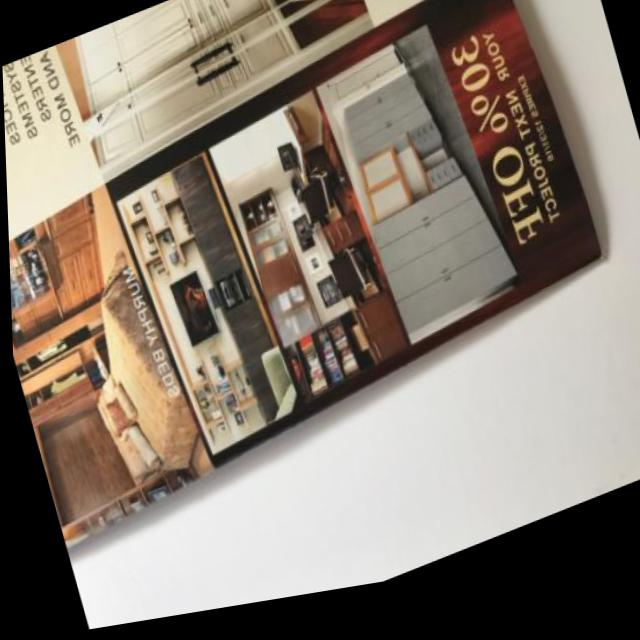paper: (0, 0, 638, 567)
